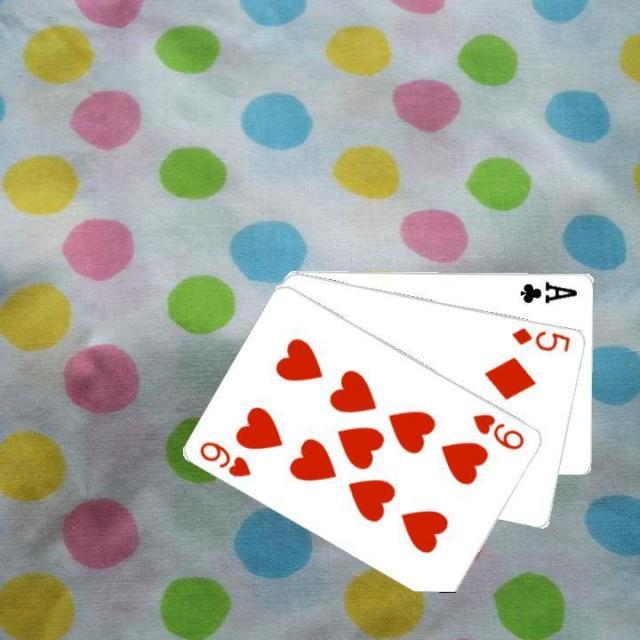5D: (508, 322, 572, 353)
9H: (469, 409, 527, 452), (196, 437, 254, 479)
AC: (516, 277, 578, 305)
